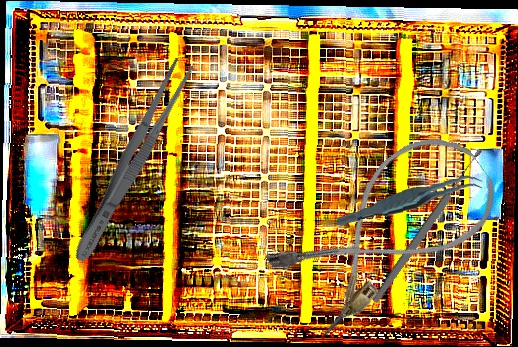Cannula: (260, 116, 512, 342)
Dressing Forceps: (66, 55, 198, 267)
Surgical Spoon: (370, 146, 486, 305)
Tissue Forceps: (334, 173, 485, 228)
